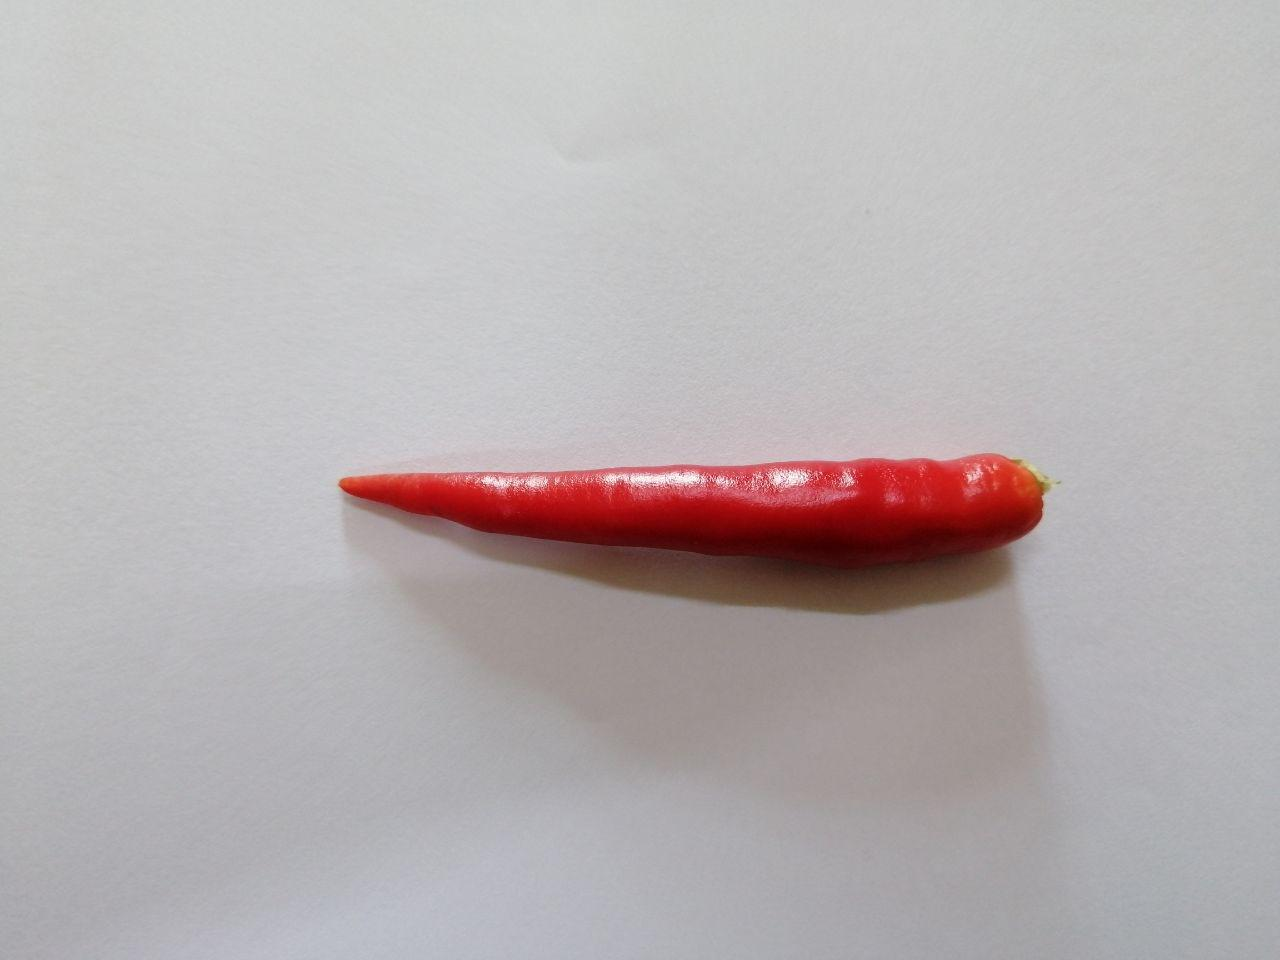lada merah: (309, 418, 1094, 597)
